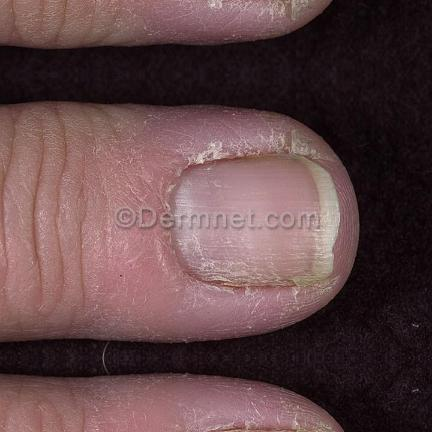Nail: (167, 154, 341, 287), (201, 427, 325, 432)
